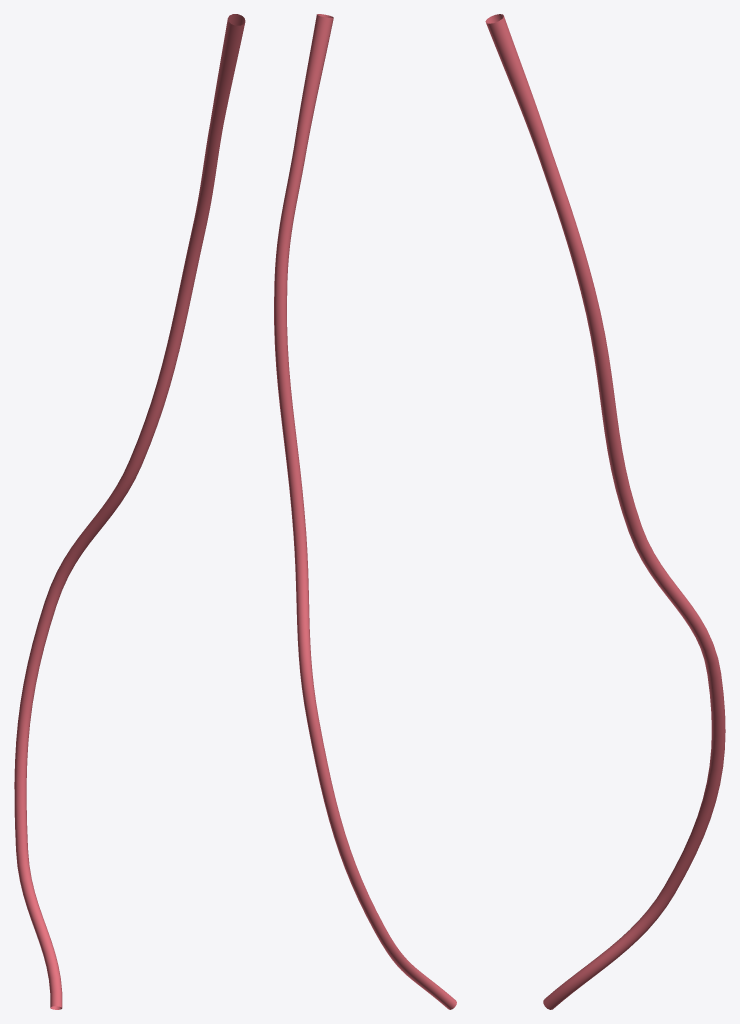
The picture shows the model from 3 angles, left to right: view 1: azimuth 30°, elevation 25°; view 2: azimuth 150°, elevation 25°; view 3: azimuth 270°, elevation 25°; orthographic projection. The views are drawn at different scales.
Visible parts, largest first — view 1: ZA_659cb5d5f9654653; view 2: ZA_659cb5d5f9654653; view 3: ZA_659cb5d5f9654653.
Part boxes in pixels (x1,y1,x2,y2): ZA_659cb5d5f9654653: [14, 14, 245, 1009]; ZA_659cb5d5f9654653: [274, 14, 456, 1009]; ZA_659cb5d5f9654653: [485, 14, 725, 1009].
Size of the model in its own units: 0.0222 by 0.1199 by 0.0242.
